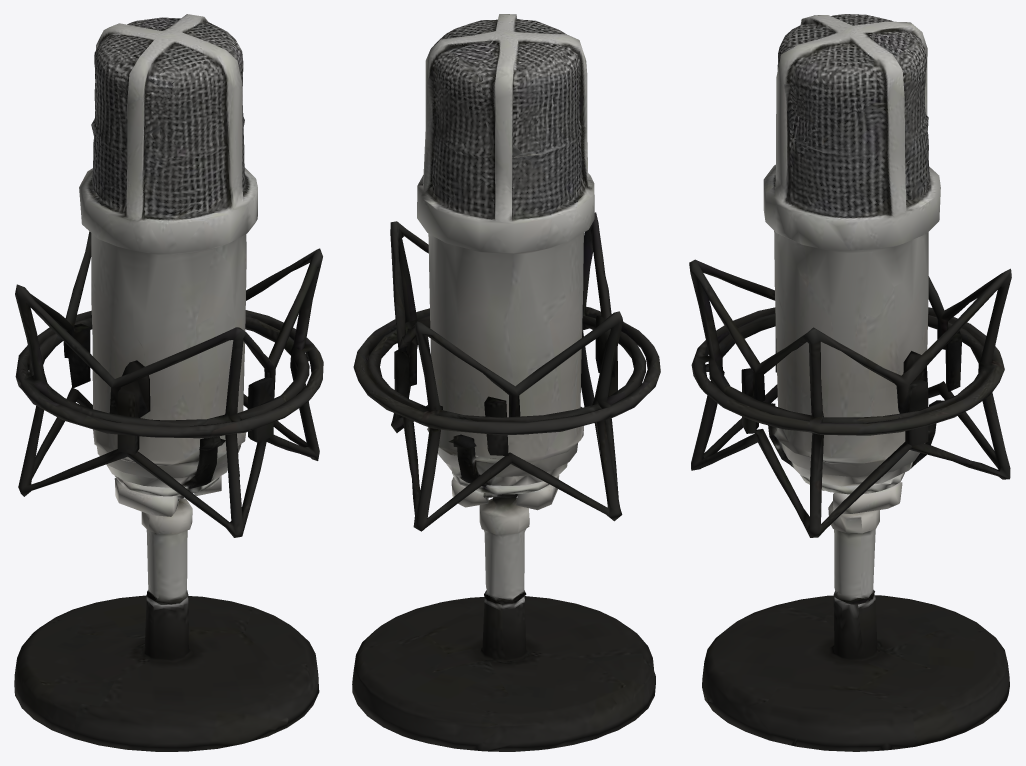
Rendered from microphone-v1.glb.
3 views of the same model, side by side, from view 1: azimuth 30°, elevation 25°; view 2: azimuth 150°, elevation 25°; view 3: azimuth 270°, elevation 25° (orthographic).
Parts seen in each view (by area): view 1: prop__microphone; view 2: prop__microphone; view 3: prop__microphone.
Part boxes in pixels (x1,y1,x2,y2): prop__microphone: (14,14,323,751); prop__microphone: (352,14,660,751); prop__microphone: (689,14,1011,751).
Bounding box in the file's own units: 0.154 × 0.36 × 0.1604.
1 material, 1 textured.
